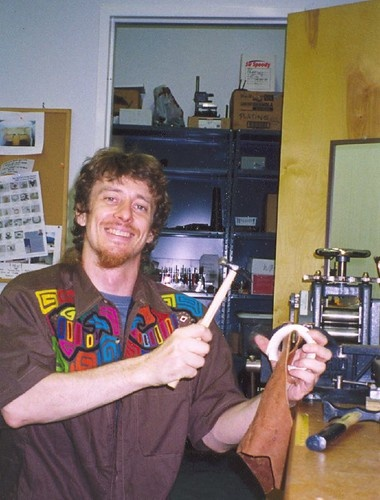hammer: (162, 255, 251, 388)
